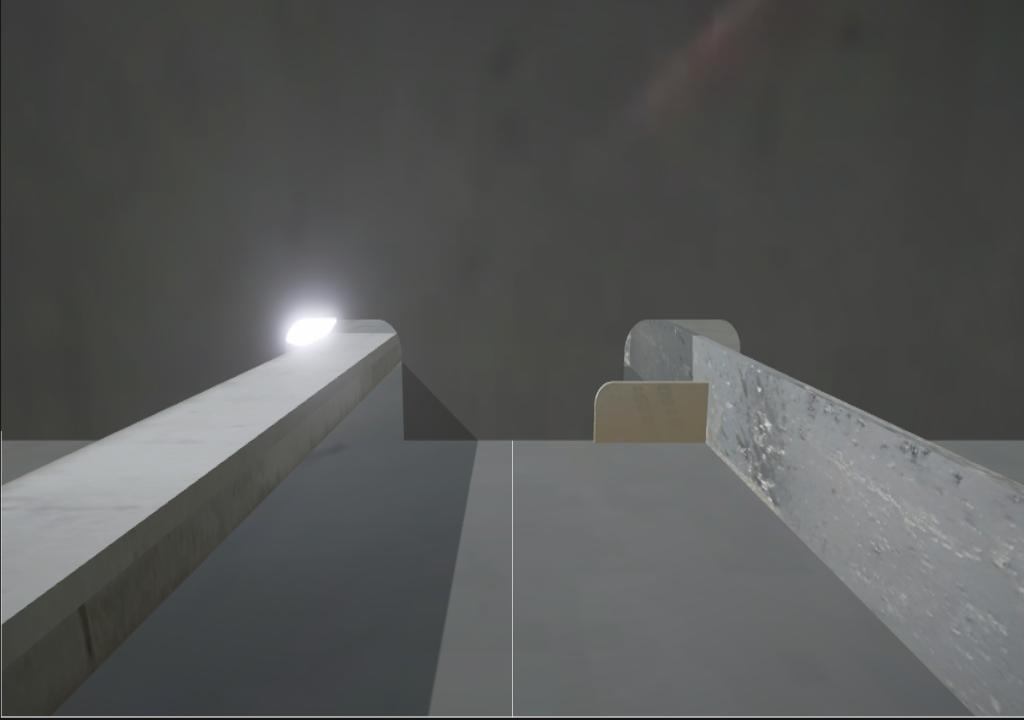fillet_yong_jeop_jang: (403, 431, 596, 446)
plate_CP05: (593, 381, 711, 444)
